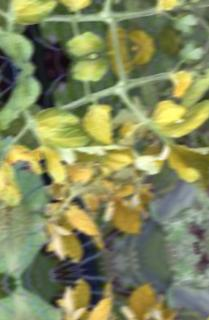Tomato leaf yellow virus: (0, 139, 54, 290), (27, 101, 104, 160), (0, 74, 51, 140), (142, 98, 193, 146)
